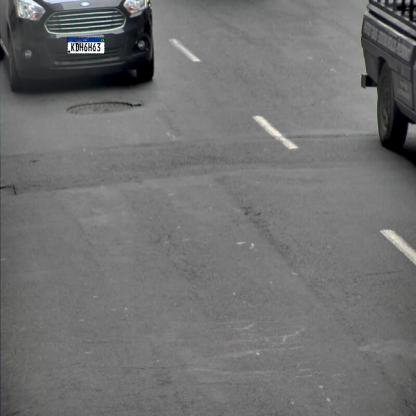PlacaM: (67, 38, 105, 54)
